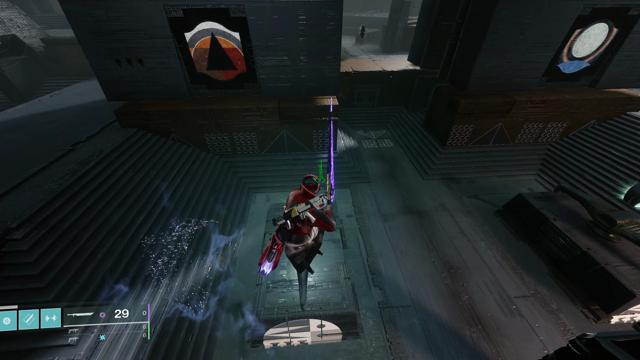pyramid: (184, 21, 247, 81)
traveler: (553, 20, 619, 74)
